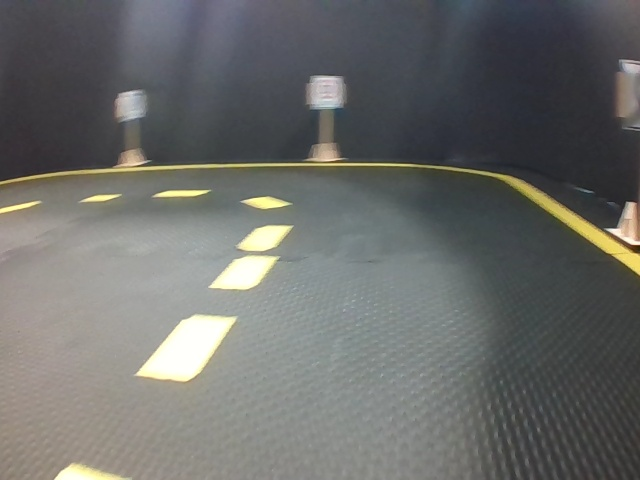30: (309, 78, 348, 110)
no30: (118, 90, 148, 123)
